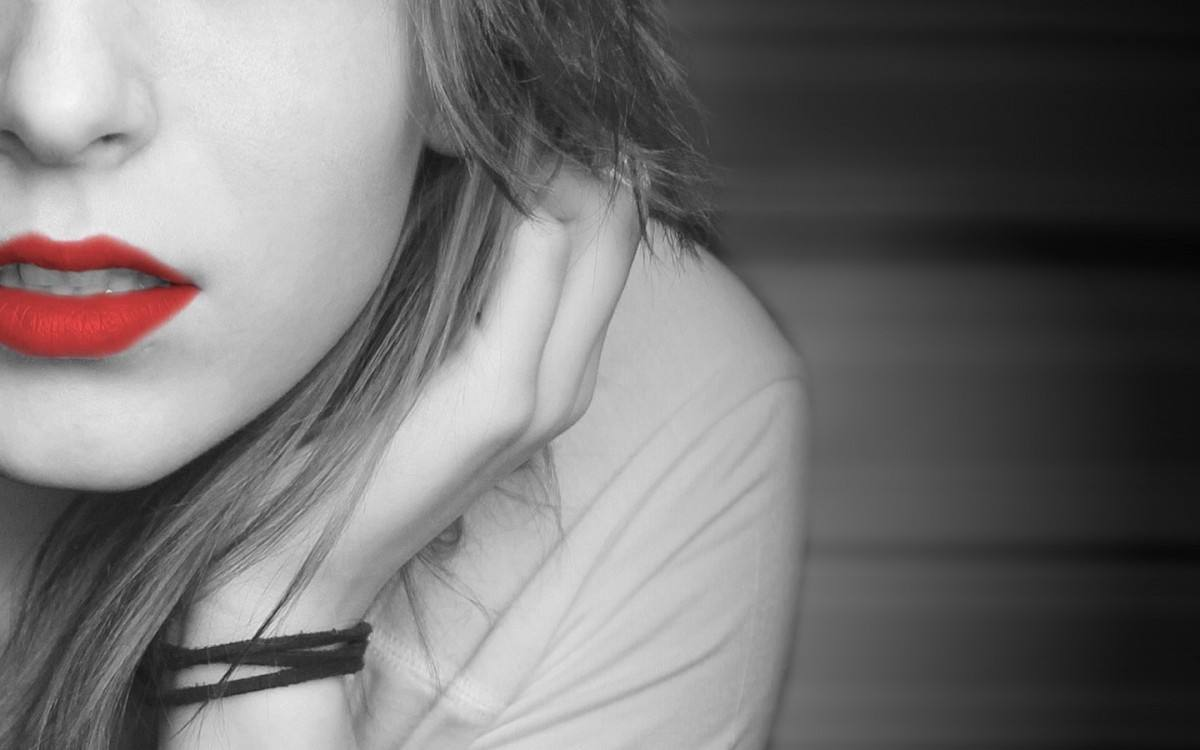person: (1, 5, 596, 605)
